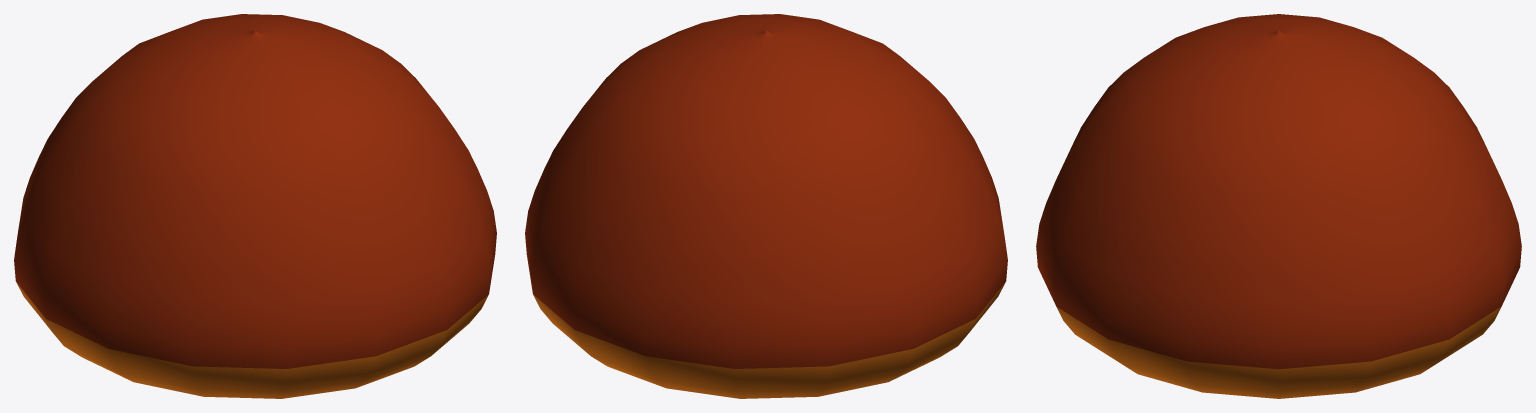
File: Animals  Nature.glb
The picture shows the model from 3 angles, left to right: view 1: azimuth 30°, elevation 25°; view 2: azimuth 150°, elevation 25°; view 3: azimuth 270°, elevation 25°; orthographic projection.
Parts seen in each view (by area): view 1: Circle.2098; view 2: Circle.2098; view 3: Circle.2098.
Part boxes in pixels (box(x1,y1,x2,y2)): Circle.2098: box(14, 14, 496, 398); Circle.2098: box(525, 14, 1007, 398); Circle.2098: box(1036, 14, 1521, 398).
Size of the model in its own units: 1.78 by 1.2 by 1.78.
1 material, 1 textured.
